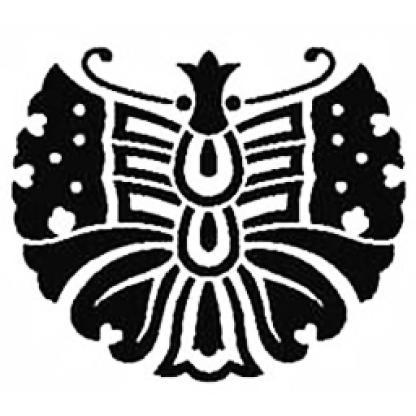kamon: (11, 46, 408, 384)
